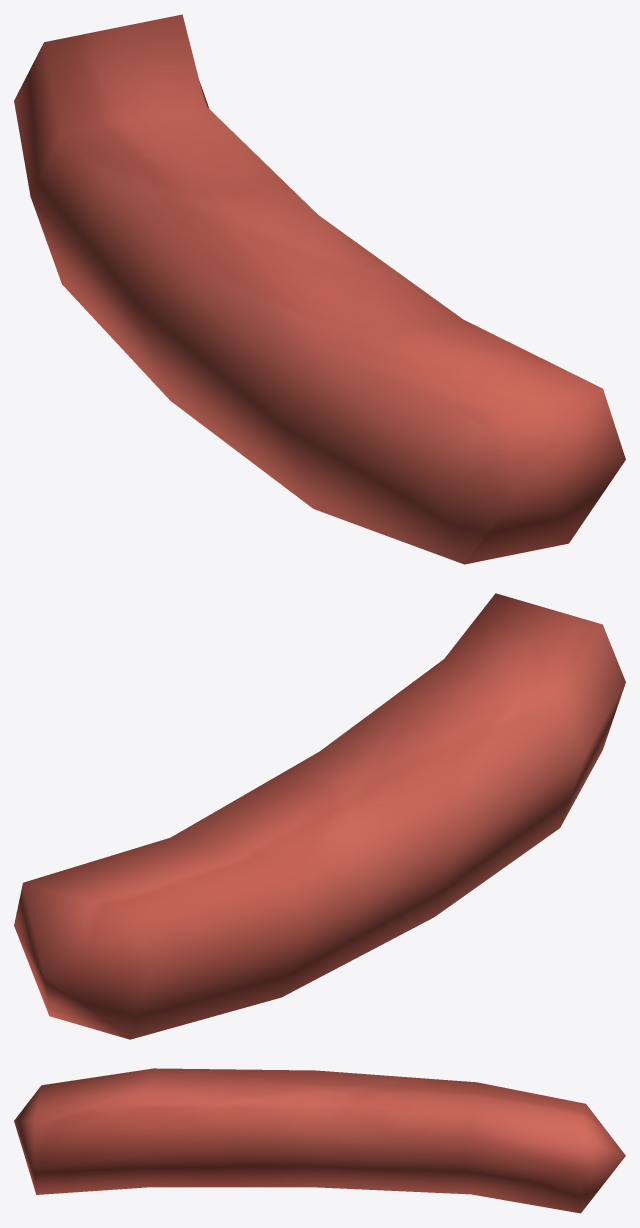
File: SM_PROP_food_sausage_05.FBX
3 renders of one model, top to bottom at view 1: azimuth 30°, elevation 25°; view 2: azimuth 150°, elevation 25°; view 3: azimuth 270°, elevation 25°, orthographic. The views are drawn at different scales.
Visible parts, largest first — view 1: SM_PROP_food_sausage_05; view 2: SM_PROP_food_sausage_05; view 3: SM_PROP_food_sausage_05.
Boxes of the visible parts, x1,y1,x2,y2 form: SM_PROP_food_sausage_05: (14, 14, 625, 564); SM_PROP_food_sausage_05: (14, 593, 625, 1039); SM_PROP_food_sausage_05: (14, 1068, 625, 1213).
Size of the model in its own units: 15.56 by 50.37 by 8.07.
